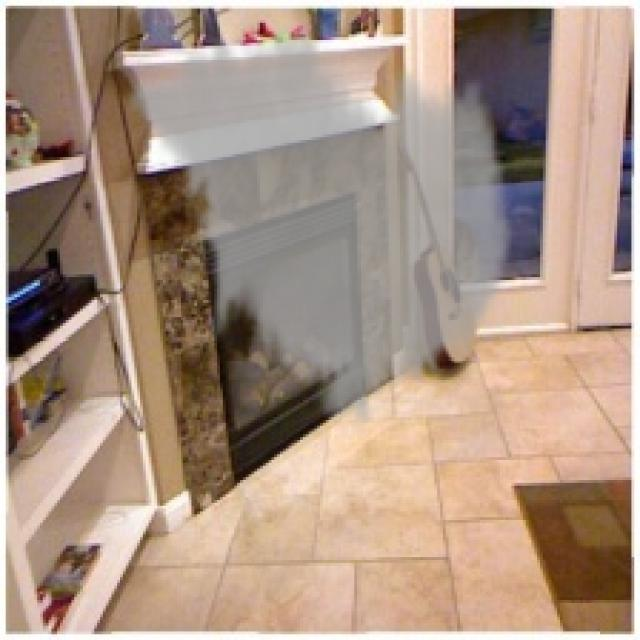smoke: (126, 9, 517, 434)
